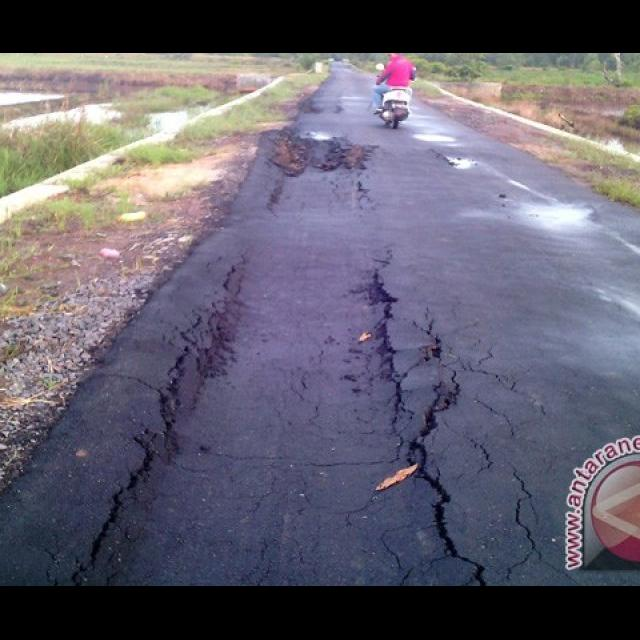retak_memanjang: (334, 246, 549, 586), (50, 258, 266, 586), (321, 173, 379, 215), (250, 172, 299, 219)
